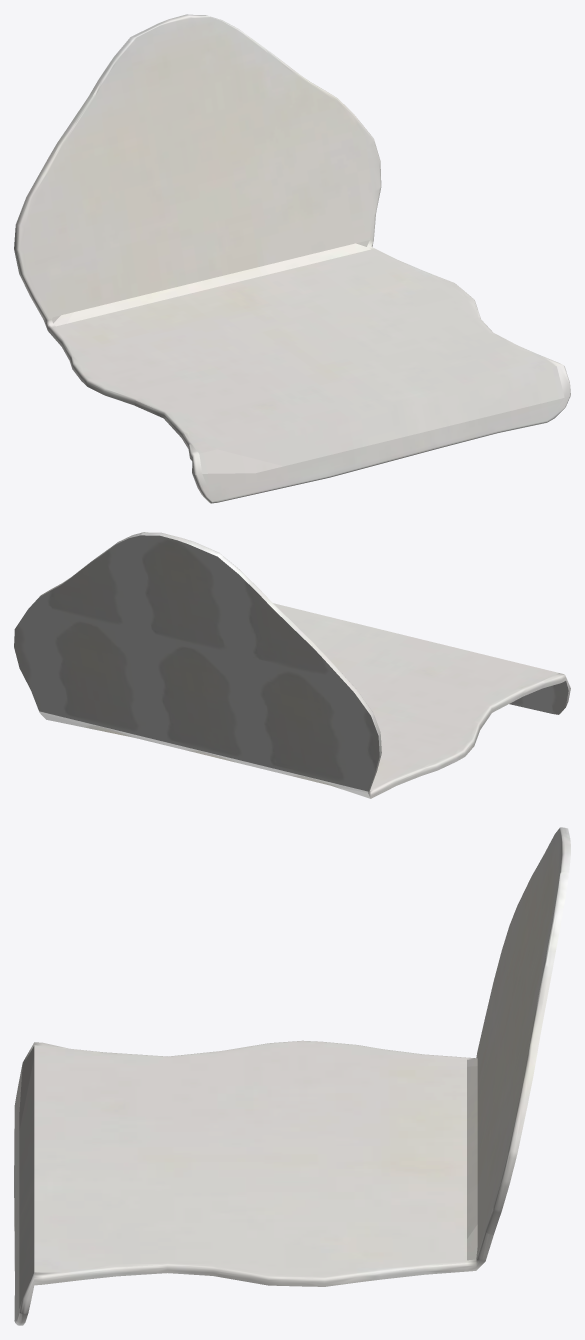
3 renders of one model, top to bottom at view 1: azimuth 30°, elevation 25°; view 2: azimuth 150°, elevation 25°; view 3: azimuth 270°, elevation 25°, orthographic. The views are drawn at different scales.
Visible parts, largest first — view 1: toftlund; view 2: toftlund; view 3: toftlund.
Boxes of the visible parts, <box> form: toftlund: <box>14,14,570,503</box>; toftlund: <box>14,532,570,798</box>; toftlund: <box>14,827,570,1325</box>.
Bounding box in the file's own units: 0.55 × 0.4056 × 0.5406.
Materials: 1 (1 with a texture image).
